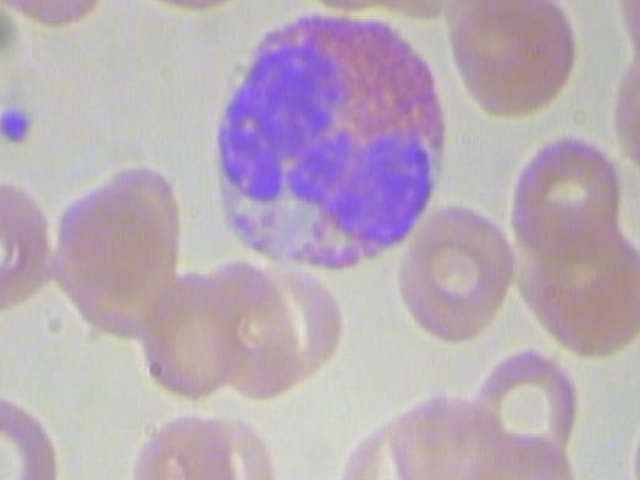Platelets: (0, 93, 33, 150)
RBC: (442, 0, 586, 125), (394, 202, 518, 344), (129, 264, 251, 401), (389, 391, 504, 480), (0, 171, 62, 327), (118, 406, 242, 480), (179, 403, 284, 480), (460, 421, 584, 480), (0, 381, 57, 480), (0, 0, 110, 33)
WBC: (210, 8, 452, 285)
